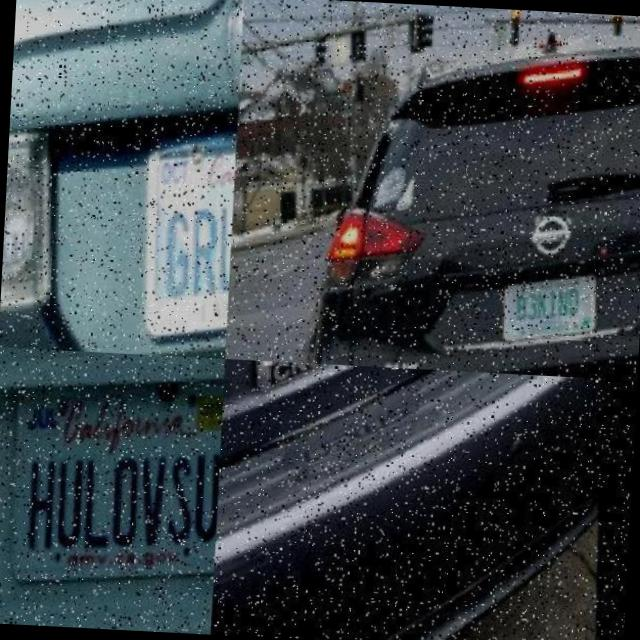LicensePlate: (0, 361, 224, 606), (136, 110, 238, 344), (507, 279, 601, 347)
